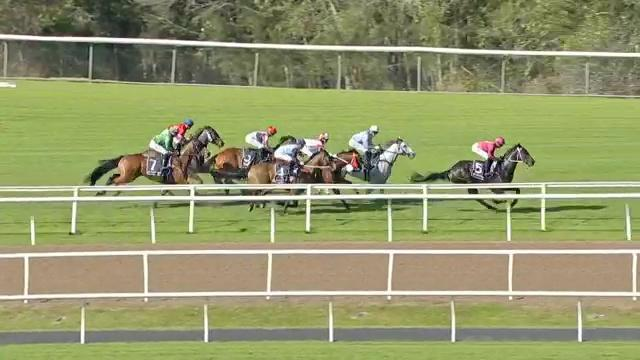racing-horse: (97, 111, 232, 201), (406, 133, 542, 221), (81, 124, 214, 211), (225, 134, 340, 219), (187, 125, 303, 206), (317, 122, 418, 206), (273, 128, 367, 216)
